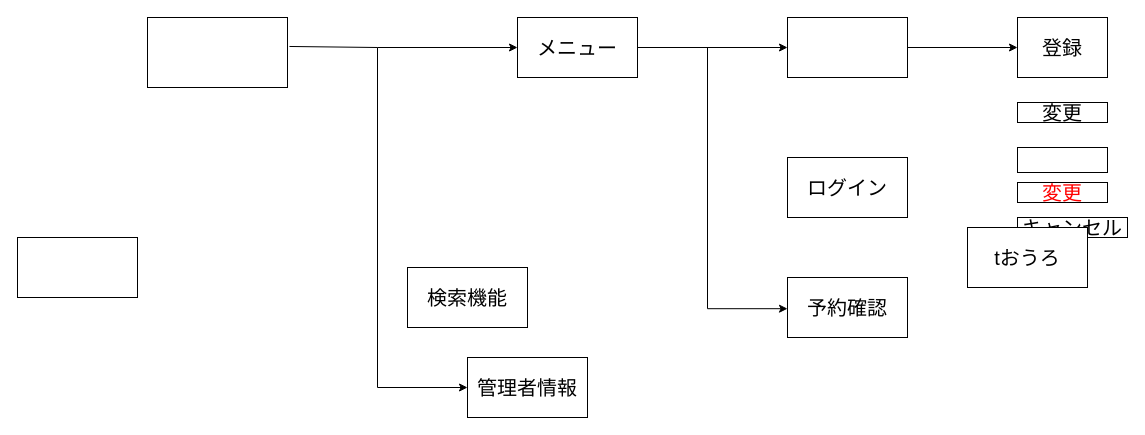
Image size: 1145x435. Some labels were removed from this diagram. The shapes that lost their labels are listed below. From the top down, each one's box as (x1, y1, x2, y2) in pixels, then its label:
(146, 16, 288, 88): トップページ
(786, 16, 908, 78): 会員情報
(1016, 146, 1108, 172): 退会
